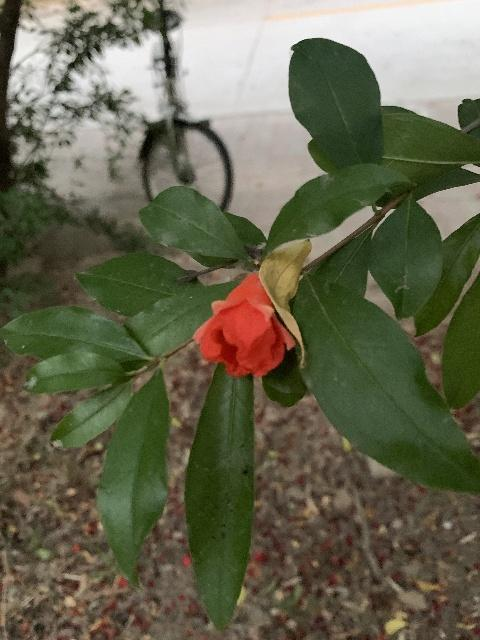flower: (193, 272, 296, 378)
